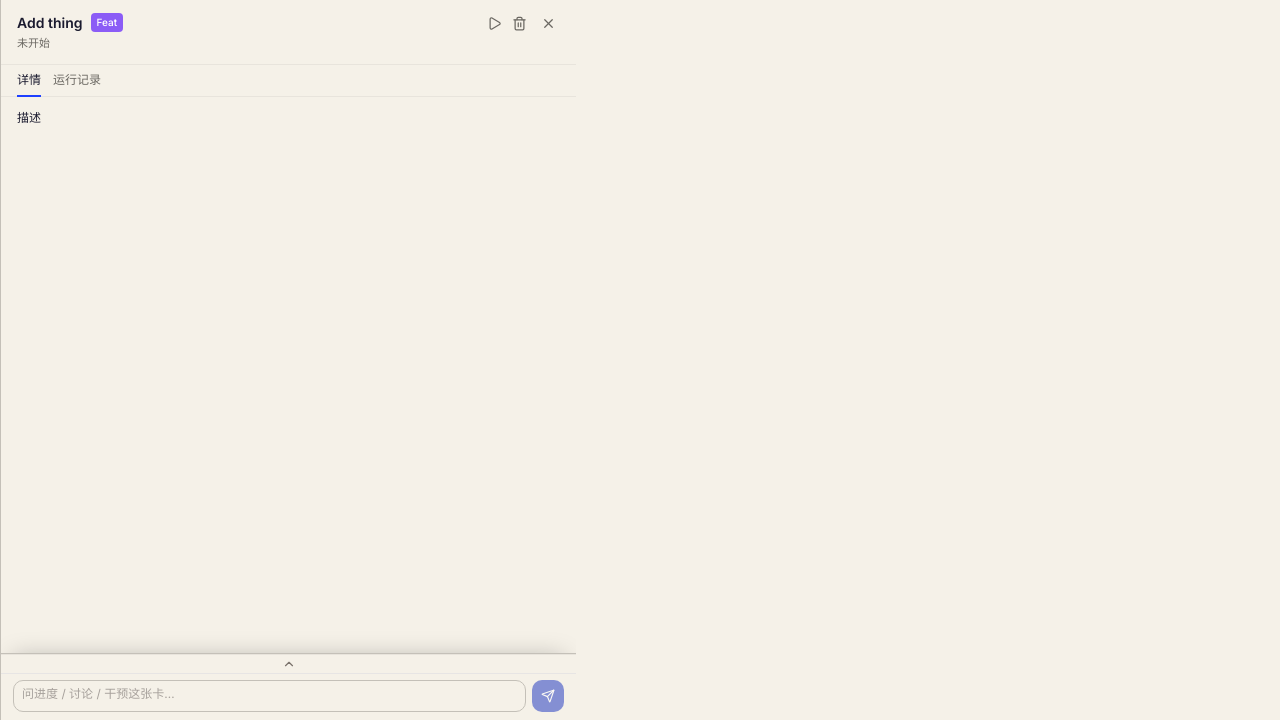
Test case: RequirementCardDetail · 删除按钮 › 二次确认取消 → 不调 removeCard、弹窗关闭
Click the button named "删除" at (520, 24), box [508,12,531,35]
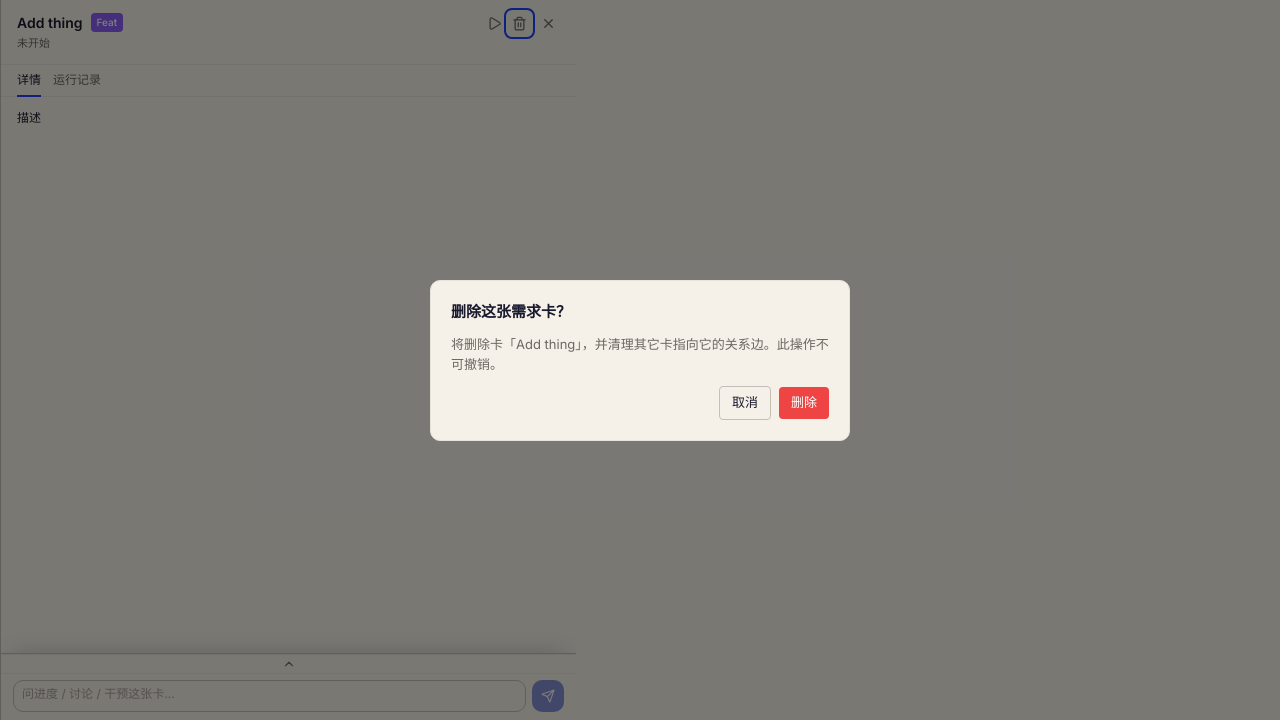
Expected: the dialog "删除这张需求卡？" is shown, [430,280,850,440]
Click the button "取消" at (745, 403), box [719,386,771,420]
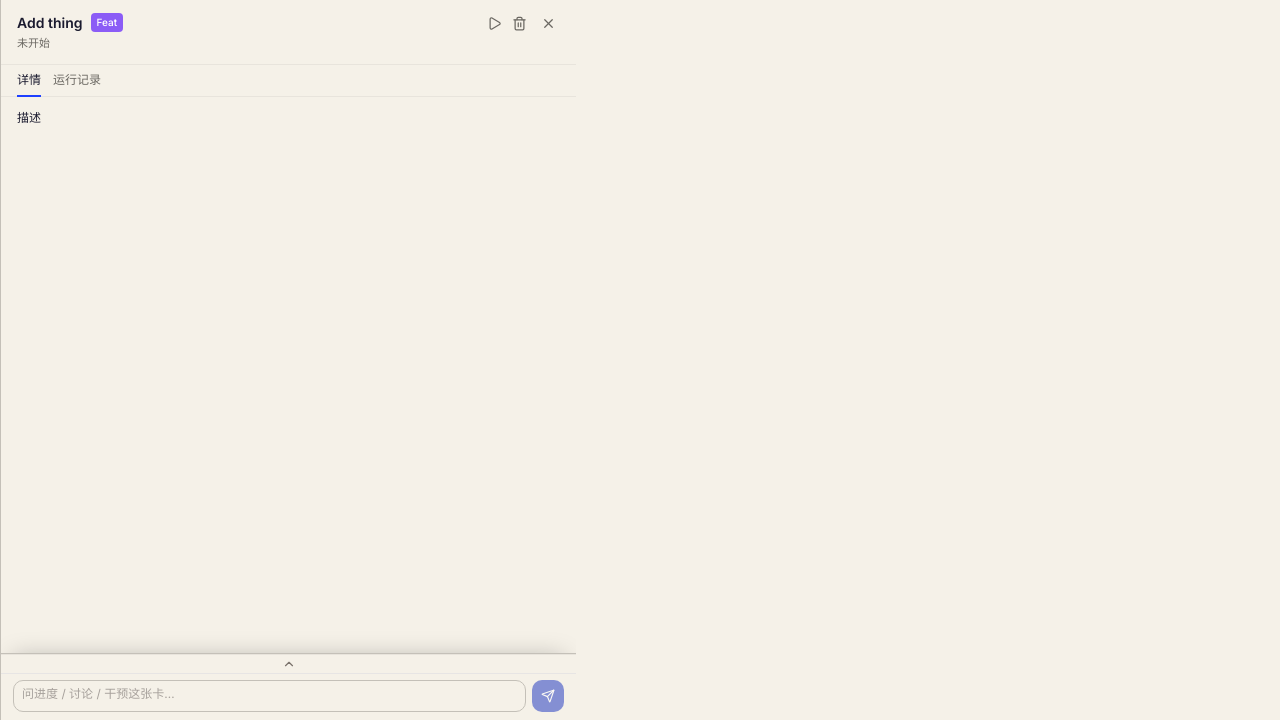
Expected: the dialog is gone
